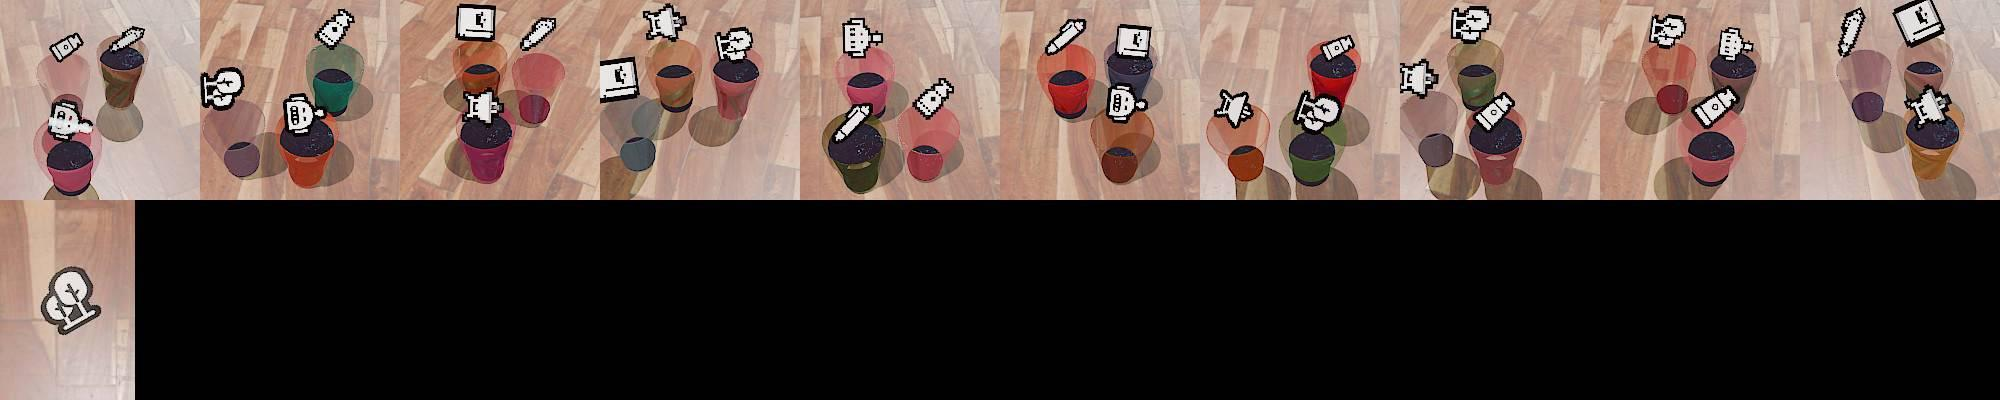icon: (38, 265, 102, 335), (1892, 0, 1944, 48), (1690, 84, 1742, 129), (1903, 87, 1953, 132), (47, 99, 94, 144), (1295, 88, 1342, 131), (199, 68, 245, 111), (1472, 89, 1518, 132), (598, 56, 640, 103), (912, 75, 955, 120), (833, 101, 875, 145), (642, 3, 687, 42), (1045, 17, 1088, 56), (1213, 88, 1254, 129), (455, 4, 497, 43), (842, 18, 881, 60), (1106, 83, 1148, 122), (1450, 5, 1494, 43), (1398, 57, 1437, 98), (316, 8, 355, 48), (283, 93, 320, 135), (1648, 11, 1687, 50), (1114, 24, 1154, 61), (1837, 8, 1866, 59), (463, 88, 503, 125), (716, 25, 755, 62), (1717, 25, 1756, 62), (519, 17, 557, 54), (1319, 33, 1356, 64), (108, 25, 147, 55), (48, 32, 84, 62)
